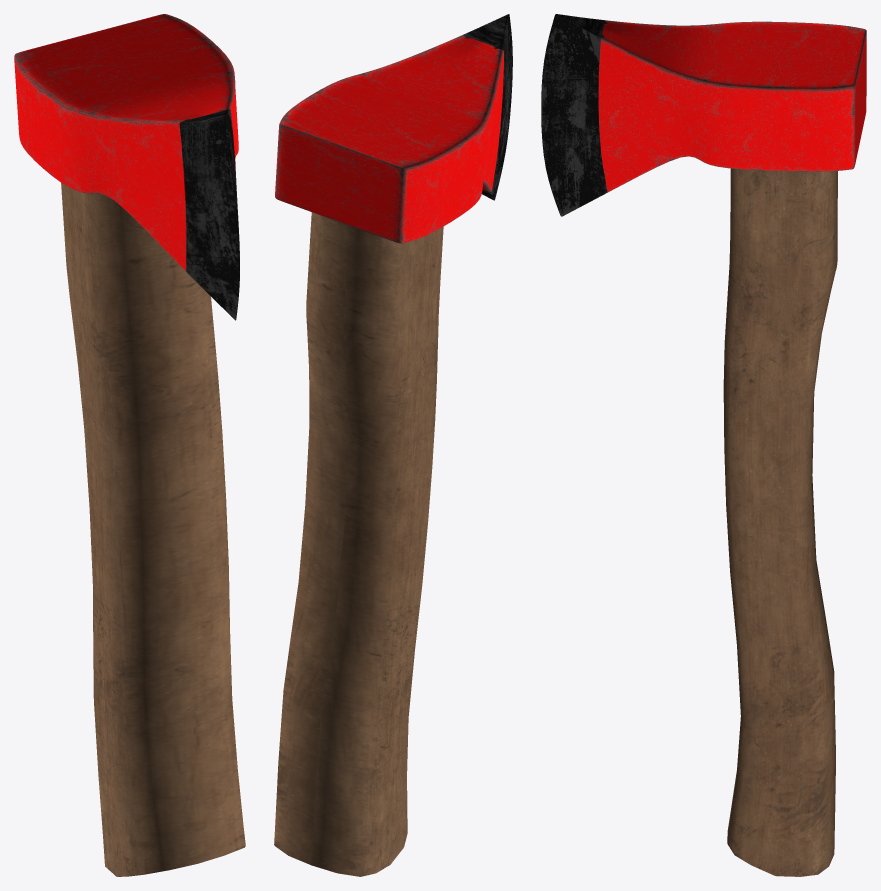
Rendered from NPChachagira.obj.
3 views of the same model, side by side, from view 1: azimuth 30°, elevation 25°; view 2: azimuth 150°, elevation 25°; view 3: azimuth 270°, elevation 25° (orthographic). The views are drawn at different scales.
Visible parts, largest first — view 1: obj1.001; view 2: obj1.001; view 3: obj1.001.
Boxes of the visible parts, bbox=[...] form: obj1.001: bbox=[14, 14, 245, 876]; obj1.001: bbox=[274, 14, 512, 876]; obj1.001: bbox=[541, 14, 866, 876].
Bounding box in the file's own units: 0.1141 × 0.4776 × 0.1736.
Materials: 2 (2 with a texture image).
